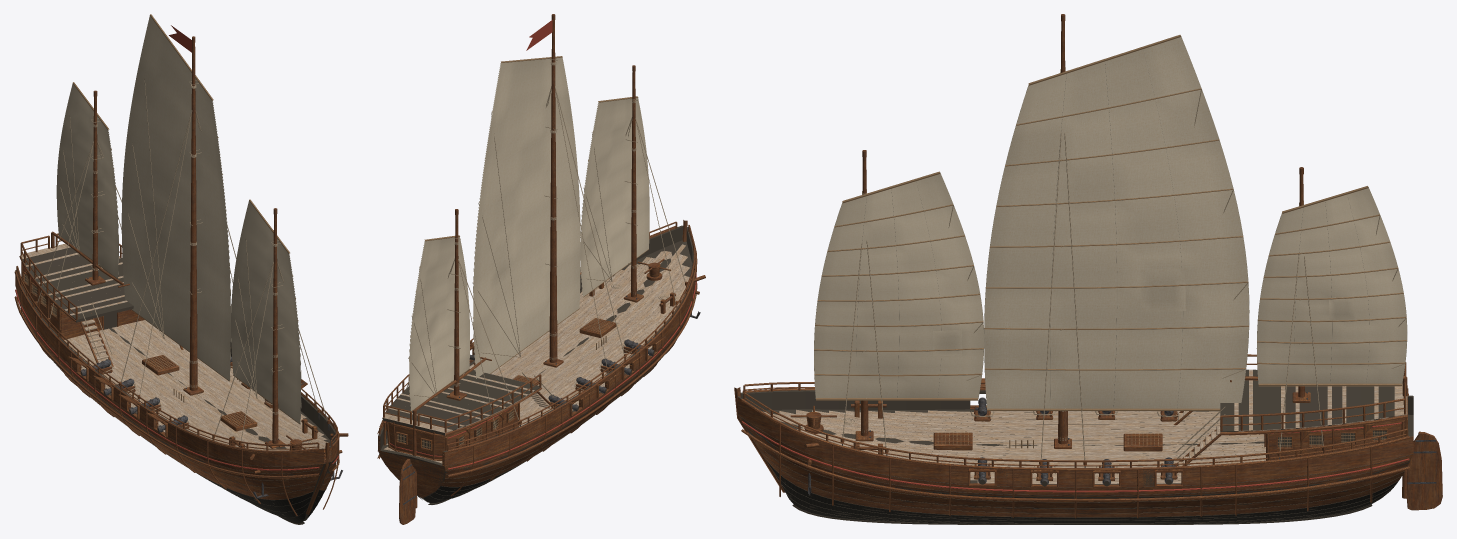
Rendered from fuchuan-lod1.glb.
3 renders of one model, left to right at view 1: azimuth 30°, elevation 25°; view 2: azimuth 150°, elevation 25°; view 3: azimuth 270°, elevation 25°, orthographic. The views are drawn at different scales.
Parts seen in each view (by area): view 1: sail_1, hull, deck, sail_0, sail_2, shadow_deck, deck_fittings, bulwark_rails, mast_timber_1, shadow_hull, sterncastle, mast_timber_0 (+6 smaller); view 2: sail_1, deck, hull, sail_0, sail_2, shadow_deck, deck_fittings, shadow_hull, bulwark_rails, mast_timber_1, mast_timber_0, stern_transom (+7 smaller); view 3: sail_1, hull, sail_0, sail_2, deck, shadow_hull, shadow_deck, bulwark_rails, deck_fittings, rudder_blade, sterncastle, rigging_1.
Boxes of the visible parts, x1,y1,x2,y2 form: sail_1: [121, 14, 231, 381]; hull: [14, 270, 339, 524]; deck: [19, 243, 329, 450]; sail_0: [231, 199, 301, 424]; sail_2: [56, 82, 118, 278]; shadow_deck: [22, 247, 133, 322]; deck_fittings: [21, 262, 348, 498]; bulwark_rails: [16, 233, 337, 450]; mast_timber_1: [189, 43, 197, 390]; shadow_hull: [15, 270, 335, 521]; sterncastle: [23, 266, 144, 339]; mast_timber_0: [272, 214, 278, 443]; sail_1: [472, 56, 580, 378]; deck: [382, 244, 689, 463]; hull: [377, 220, 697, 504]; sail_0: [580, 96, 649, 297]; sail_2: [408, 235, 469, 411]; shadow_deck: [383, 369, 540, 435]; deck_fittings: [383, 259, 705, 460]; shadow_hull: [378, 225, 693, 502]; bulwark_rails: [379, 221, 695, 450]; mast_timber_1: [549, 20, 557, 362]; mast_timber_0: [631, 71, 636, 297]; stern_transom: [388, 423, 444, 459]; sail_1: [984, 35, 1249, 411]; hull: [734, 387, 1413, 524]; sail_0: [814, 171, 984, 400]; sail_2: [1256, 186, 1407, 386]; deck: [763, 369, 1407, 483]; shadow_hull: [738, 390, 1413, 523]; shadow_deck: [1220, 369, 1394, 432]; bulwark_rails: [743, 354, 1408, 467]; deck_fittings: [790, 385, 1407, 494]; rudder_blade: [1406, 431, 1442, 510]; sterncastle: [1266, 418, 1404, 460]; rigging_1: [1039, 133, 1086, 473].
Size of the model in its own units: 10.4 by 26.66 by 33.57.
11 materials, 6 textured.
